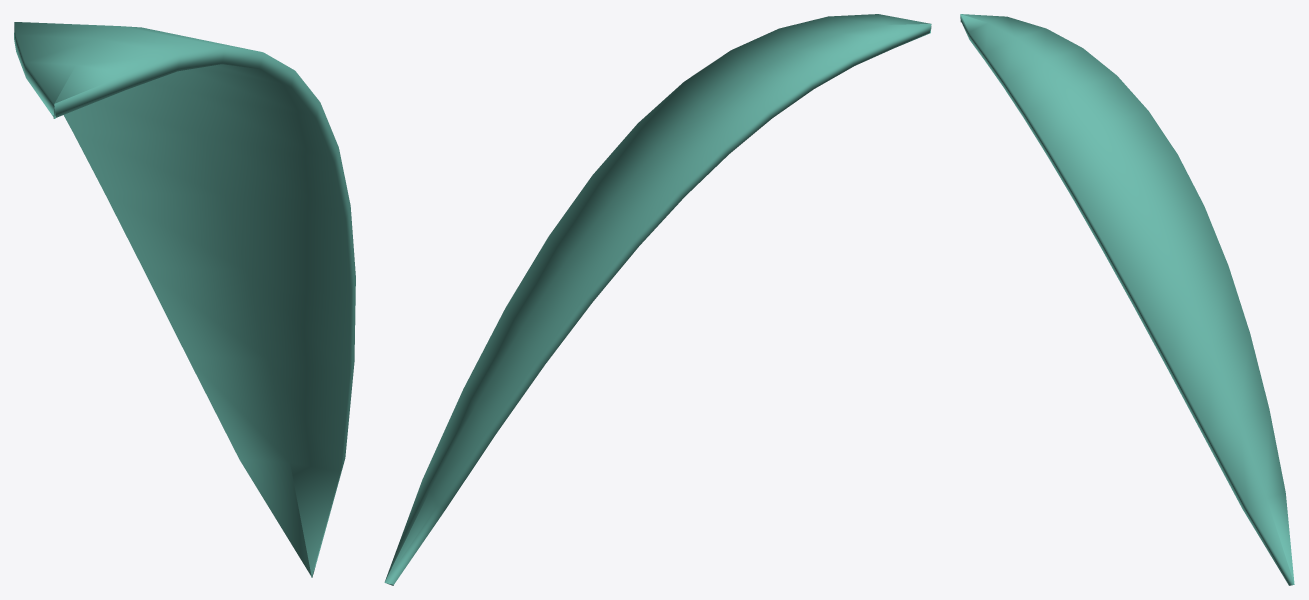
The model's file is targeted-incident-sharp-input-DIAGNOSTIC.glb.
3 renders of one model, left to right at view 1: azimuth 30°, elevation 25°; view 2: azimuth 150°, elevation 25°; view 3: azimuth 270°, elevation 25°, orthographic. The views are drawn at different scales.
Parts seen in each view (by area): view 1: FAN DIAGNOSTIC / targeted incident sharp; view 2: FAN DIAGNOSTIC / targeted incident sharp; view 3: FAN DIAGNOSTIC / targeted incident sharp.
Boxes of the visible parts, box(x1,y1,x2,y2) form: FAN DIAGNOSTIC / targeted incident sharp: box(14, 22, 355, 577); FAN DIAGNOSTIC / targeted incident sharp: box(384, 14, 931, 585); FAN DIAGNOSTIC / targeted incident sharp: box(960, 14, 1294, 585).
Size of the model in its own units: 0.3463 by 0.4799 by 0.3363.
